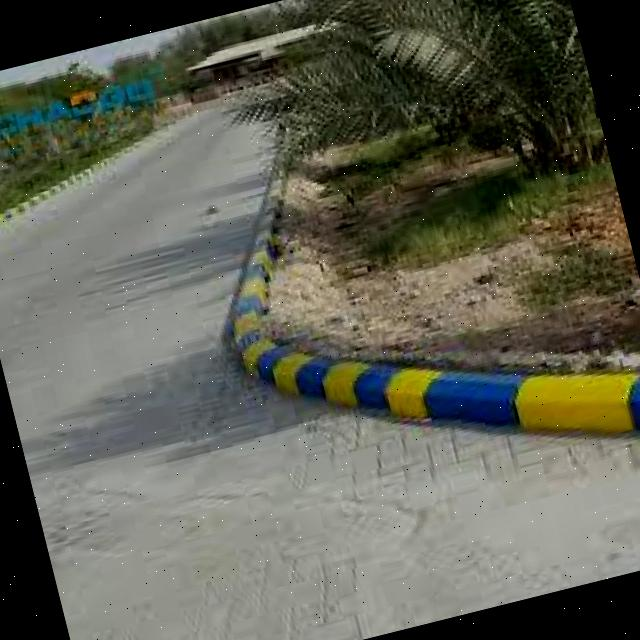curb: (435, 319, 640, 486), (262, 309, 431, 463), (213, 253, 306, 387)
